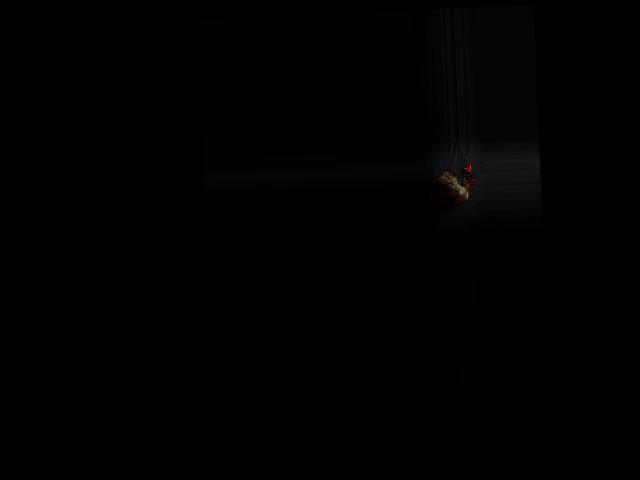beet: (425, 160, 478, 222)
